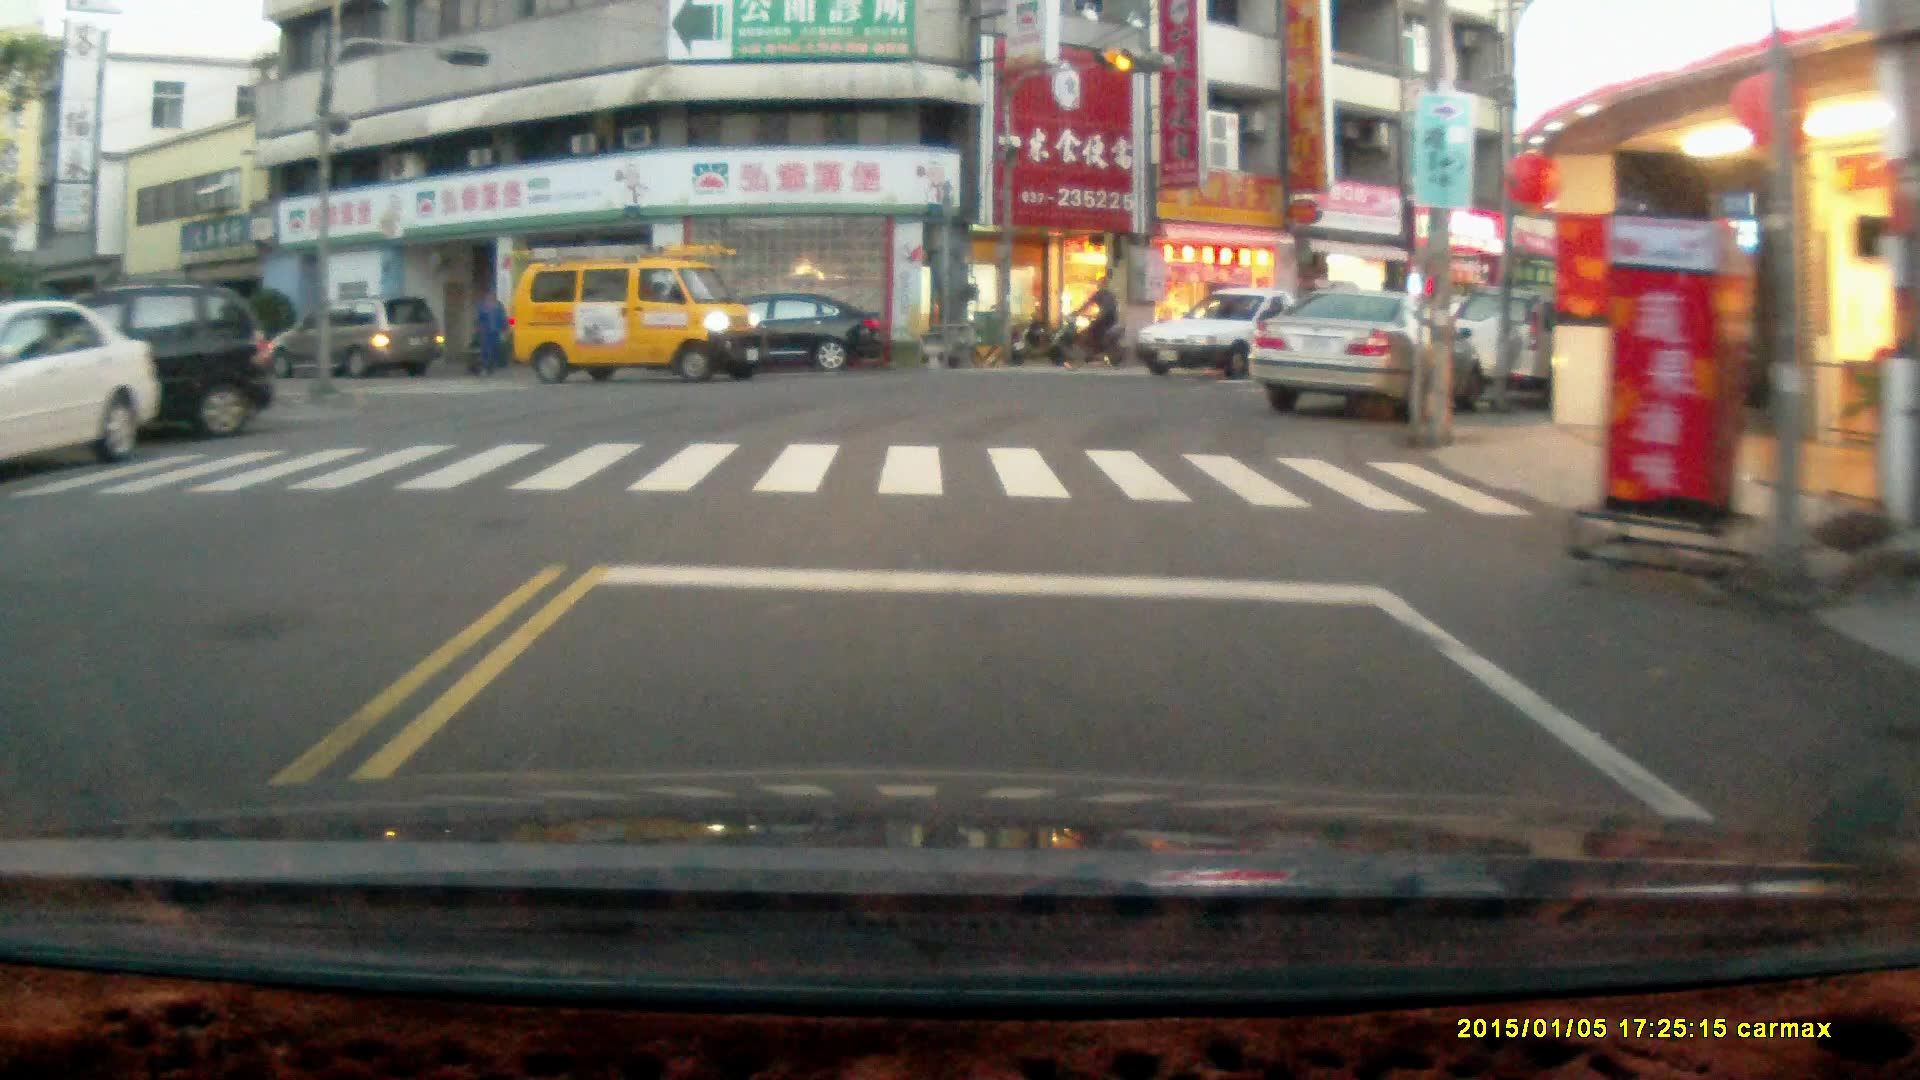pedestrian: (471, 286, 506, 373)
rider: (1054, 270, 1132, 370)
vehicle: (7, 276, 284, 447), (510, 241, 762, 385), (1246, 286, 1494, 419), (1, 297, 164, 475), (1442, 283, 1675, 408), (1131, 280, 1354, 380), (690, 287, 888, 371), (265, 296, 446, 381)
